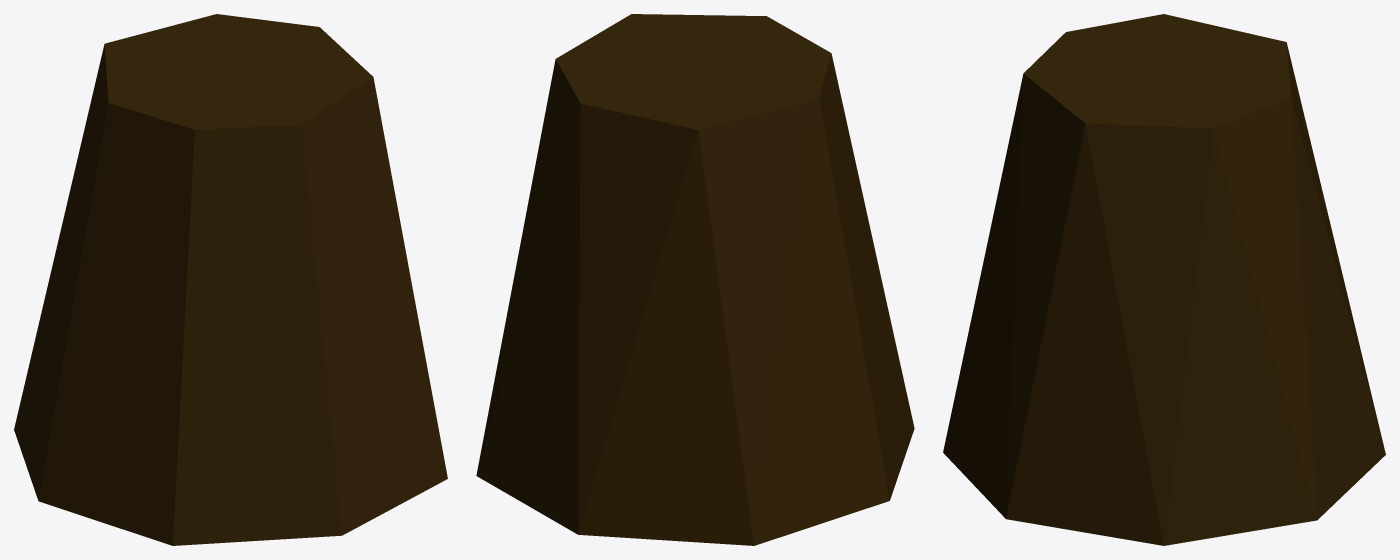
Rendered from Prefab_Foliage_Trunk_Bush.glb.
3 renders of one model, left to right at view 1: azimuth 30°, elevation 25°; view 2: azimuth 150°, elevation 25°; view 3: azimuth 270°, elevation 25°, orthographic.
Parts seen in each view (by area): view 1: Trunk.001; view 2: Trunk.001; view 3: Trunk.001.
Part boxes in pixels (bbox=[...]): Trunk.001: bbox=[14, 14, 447, 545]; Trunk.001: bbox=[476, 14, 914, 545]; Trunk.001: bbox=[943, 14, 1385, 545].
Bounding box in the file's own units: 0.0837 × 0.0792 × 0.0839.
